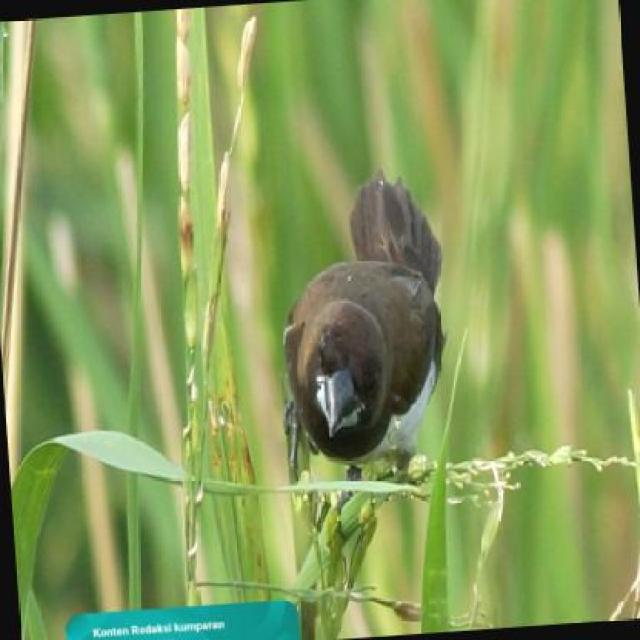Bird: (267, 155, 474, 497)
